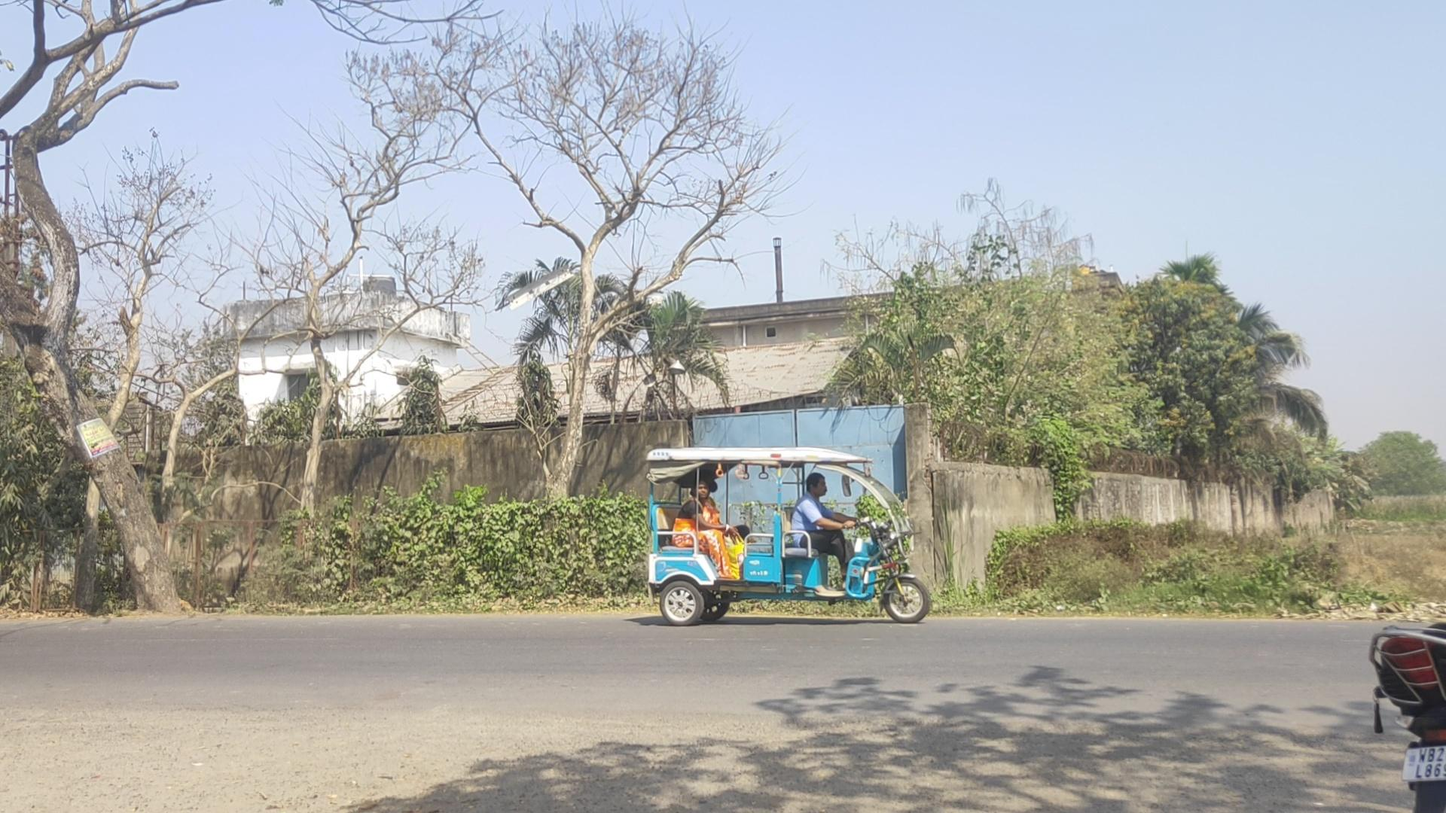Auto: (646, 447, 931, 626)
